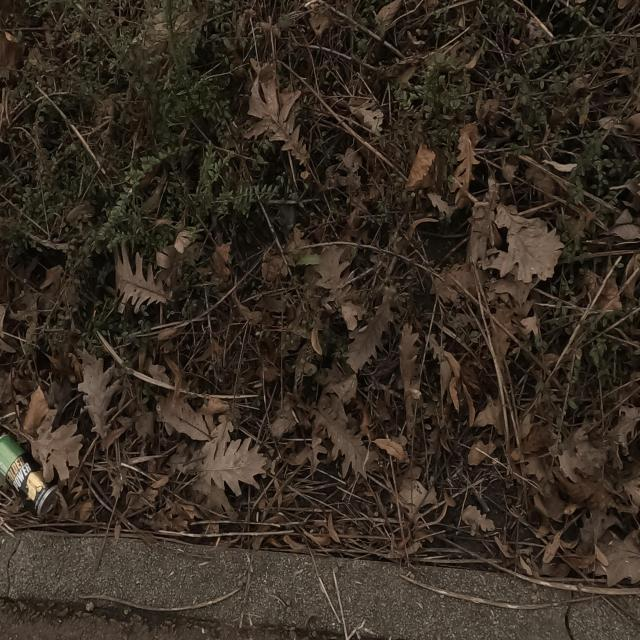Can-Metal: (0, 433, 59, 520)
